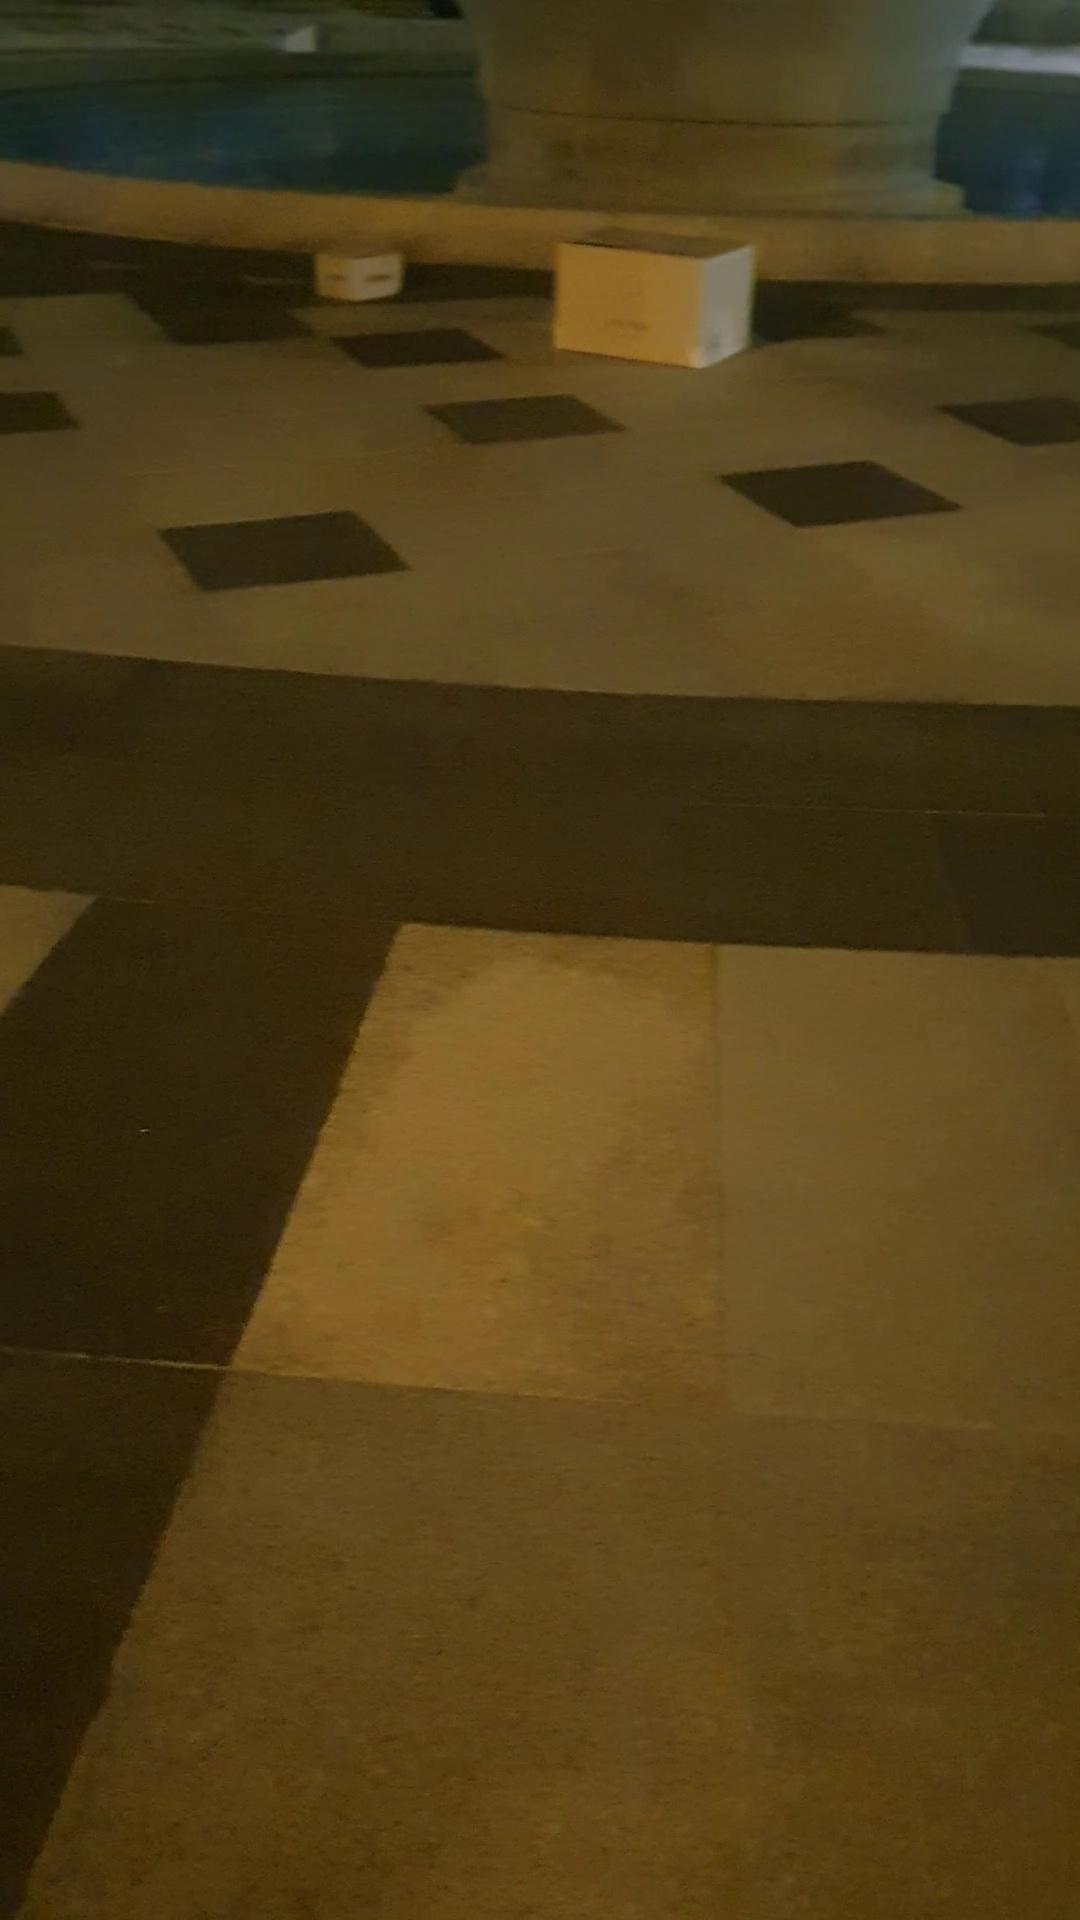Box: (531, 218, 771, 373), (309, 215, 405, 307)
